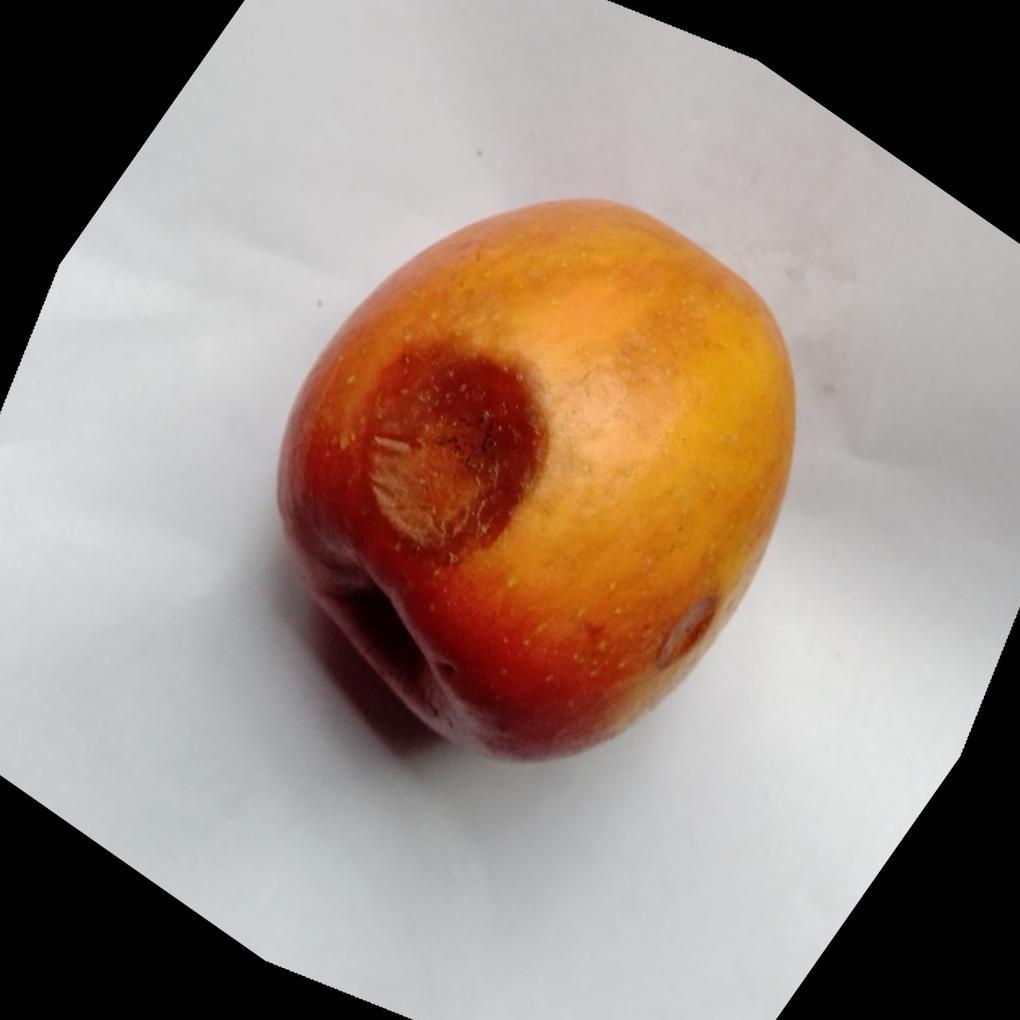FreshOrange: (272, 198, 796, 766)
